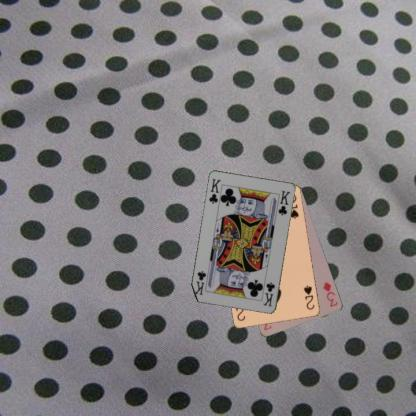2s: (301, 282, 316, 311)
3d: (321, 280, 339, 308)
Kc: (207, 176, 222, 205), (261, 280, 276, 308)
